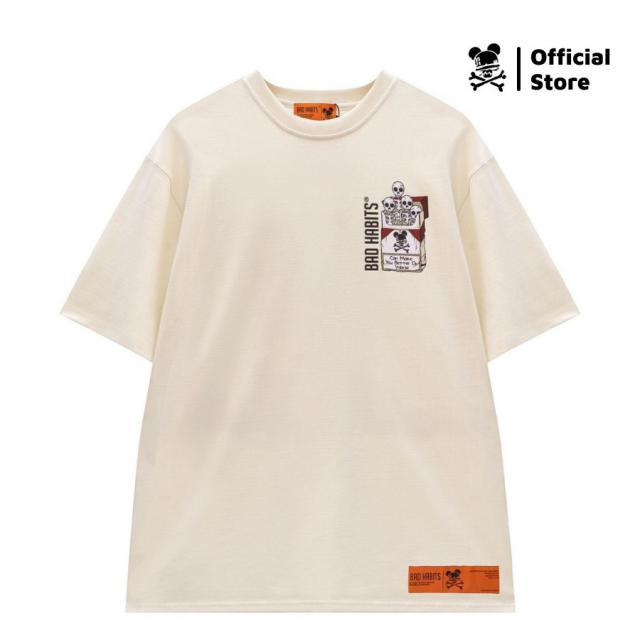Shirt: (65, 62, 582, 609)
